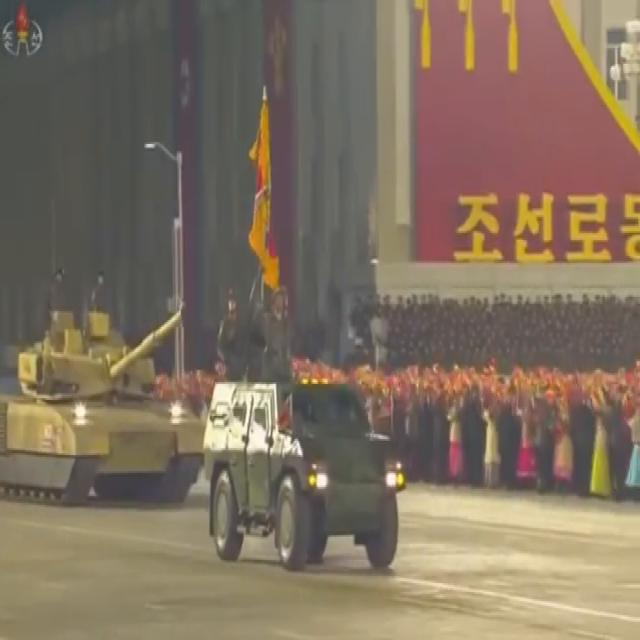north tank: (0, 257, 212, 529)
